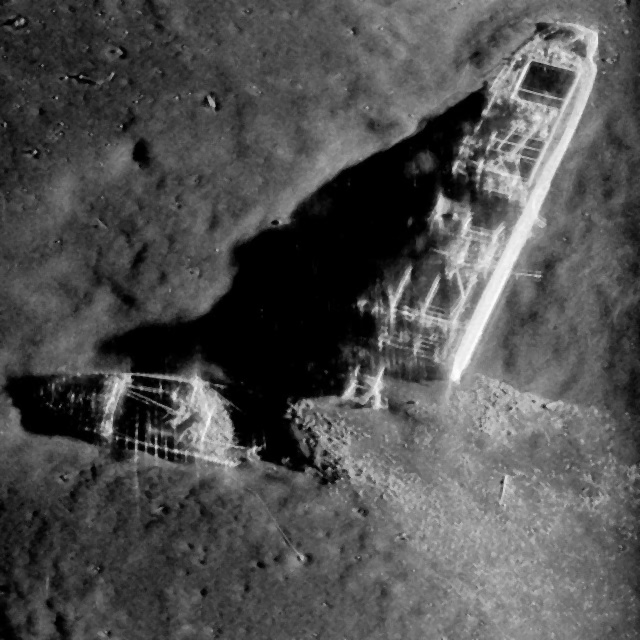Ship: (329, 14, 616, 413)
